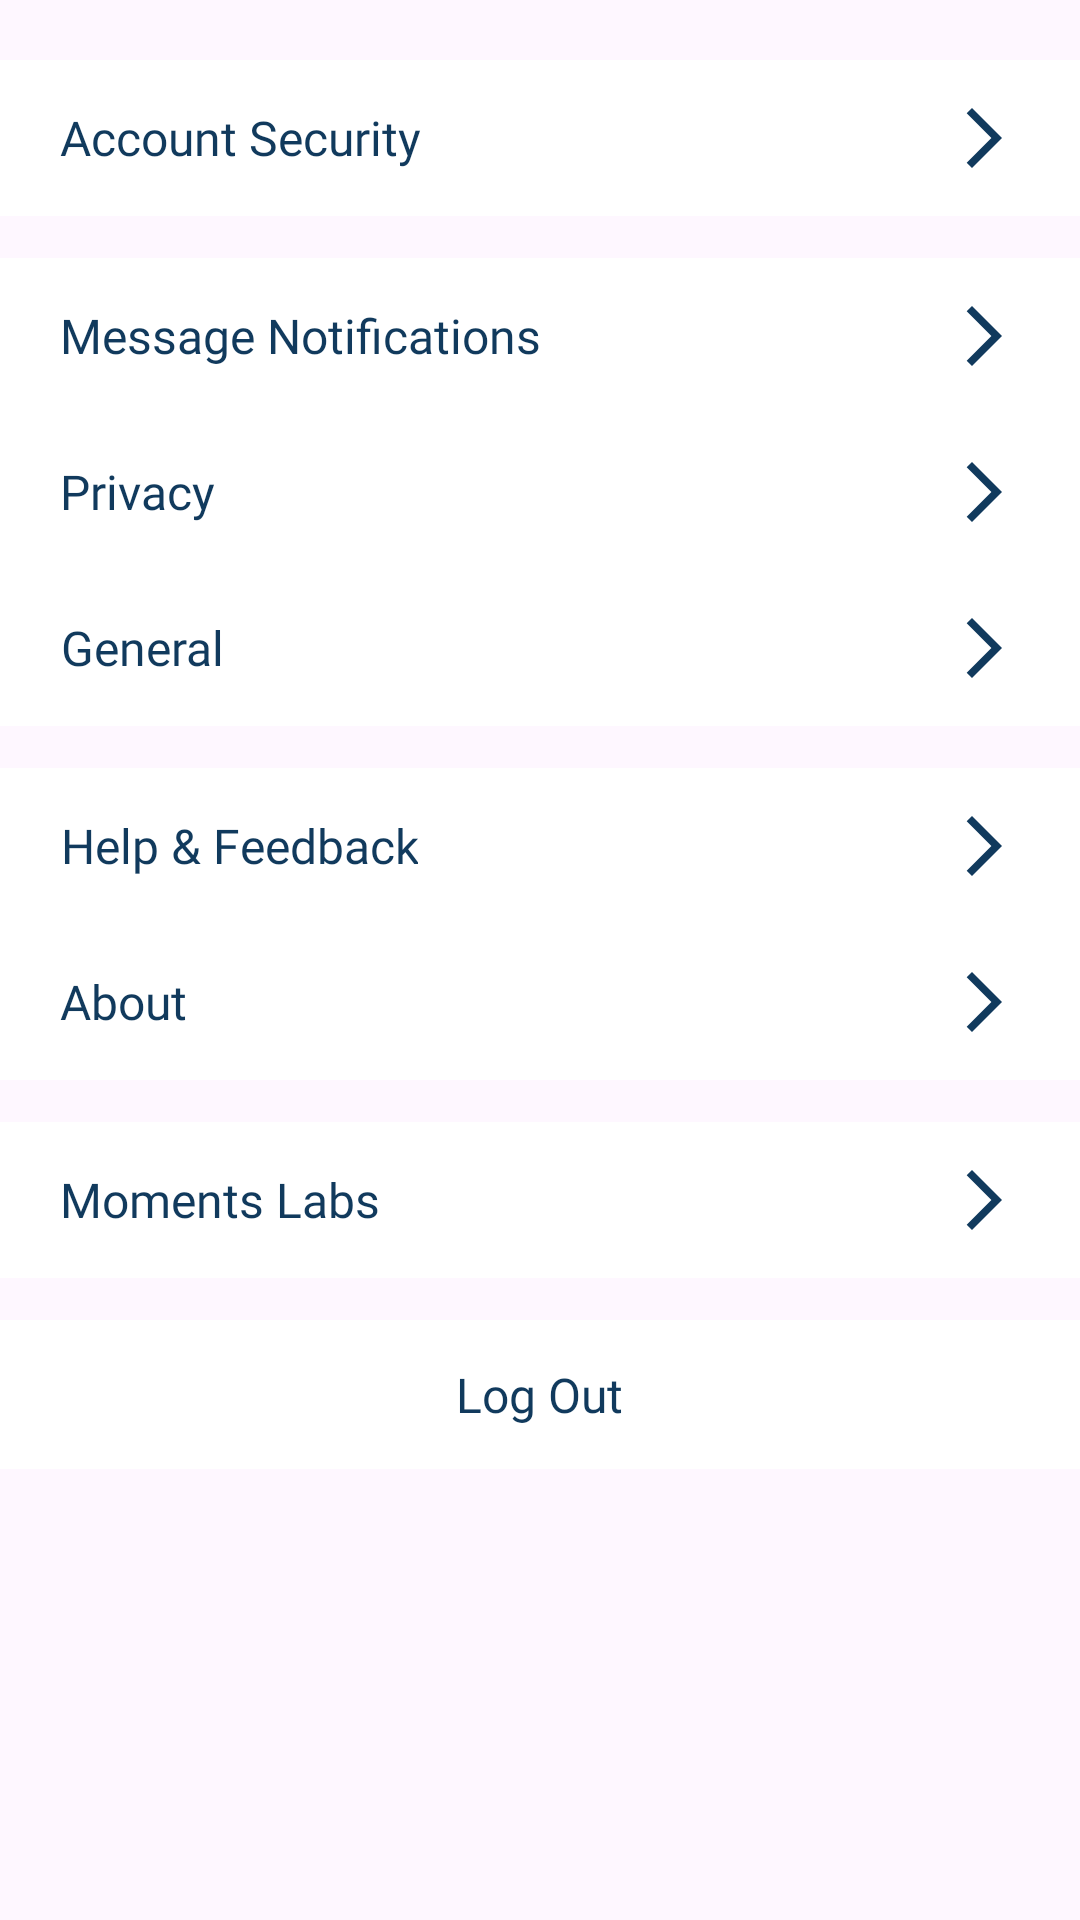

Named icons in this screenshot (1080 × 1920) and their bounding boxes, (x1, y1, x2, y2):
arrow forward: (967, 108, 1002, 168), (967, 306, 1002, 366), (967, 462, 1002, 522), (967, 618, 1002, 678), (967, 816, 1002, 876), (967, 972, 1002, 1032), (967, 1170, 1002, 1230)
